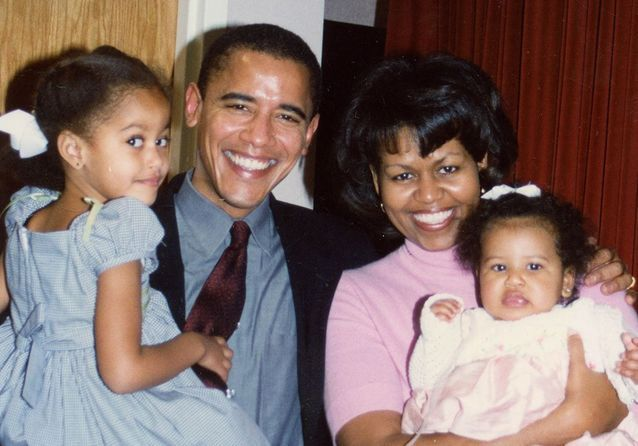without_mask: (207, 53, 306, 208), (76, 84, 168, 202), (380, 145, 482, 247), (482, 214, 547, 316)
